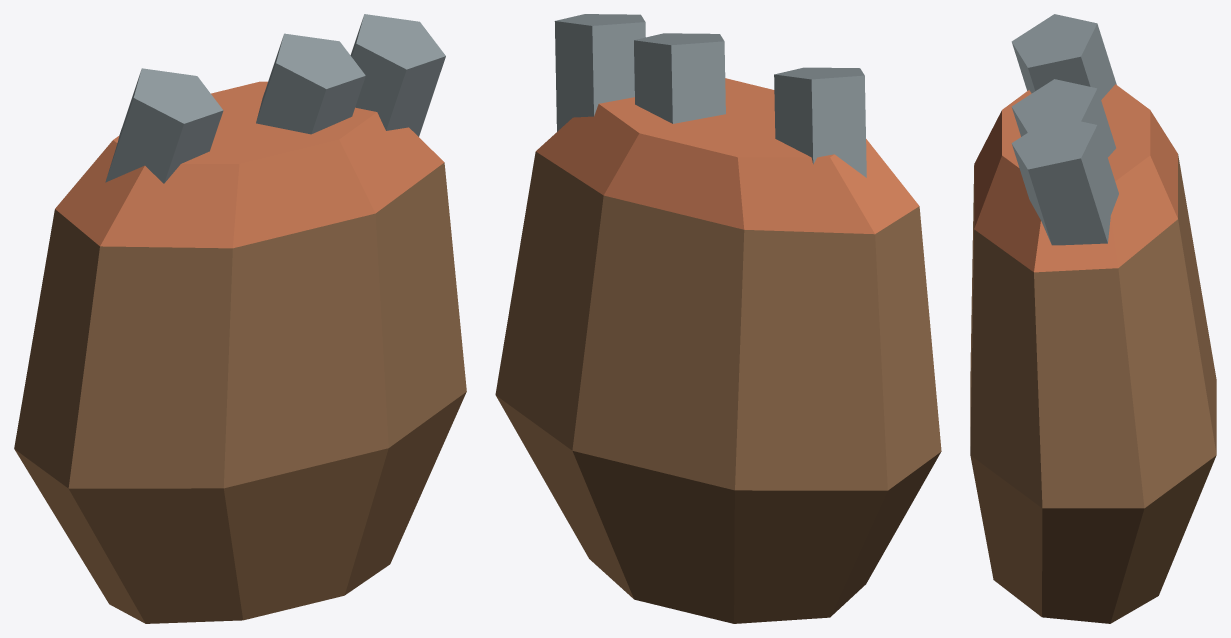
The model's file is stone_satchel.glb.
3 renders of one model, left to right at view 1: azimuth 30°, elevation 25°; view 2: azimuth 150°, elevation 25°; view 3: azimuth 270°, elevation 25°, orthographic. The views are drawn at different scales.
Parts seen in each view (by area): view 1: stone_satchel; view 2: stone_satchel; view 3: stone_satchel.
Part boxes in pixels (x1,y1,x2,y2): stone_satchel: (14, 14, 466, 623); stone_satchel: (495, 14, 941, 623); stone_satchel: (970, 14, 1216, 623).
Size of the model in its own units: 0.3973 by 0.5145 by 0.2273.
